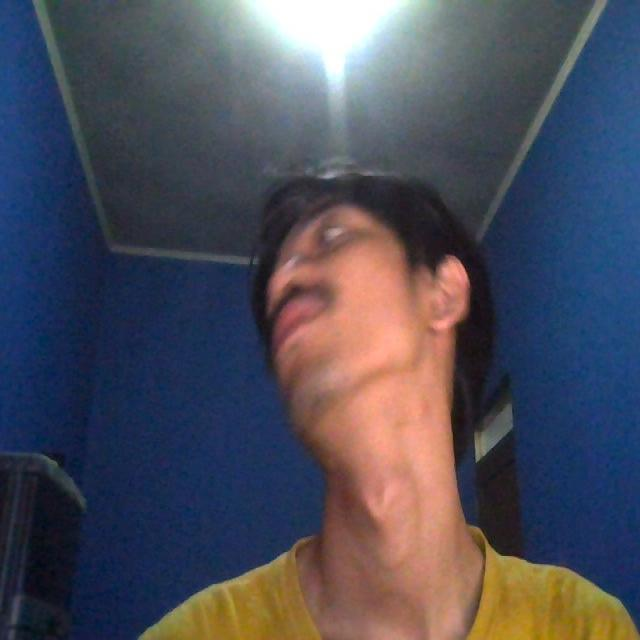Melihat kekanan: (197, 158, 555, 450)
